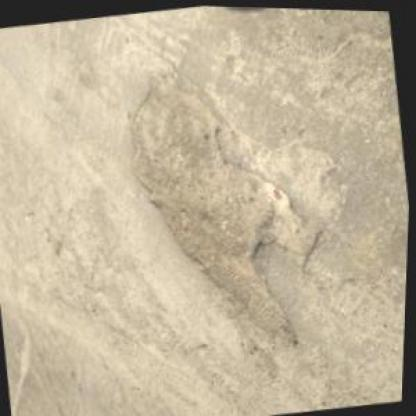pothole: (110, 44, 346, 370)
